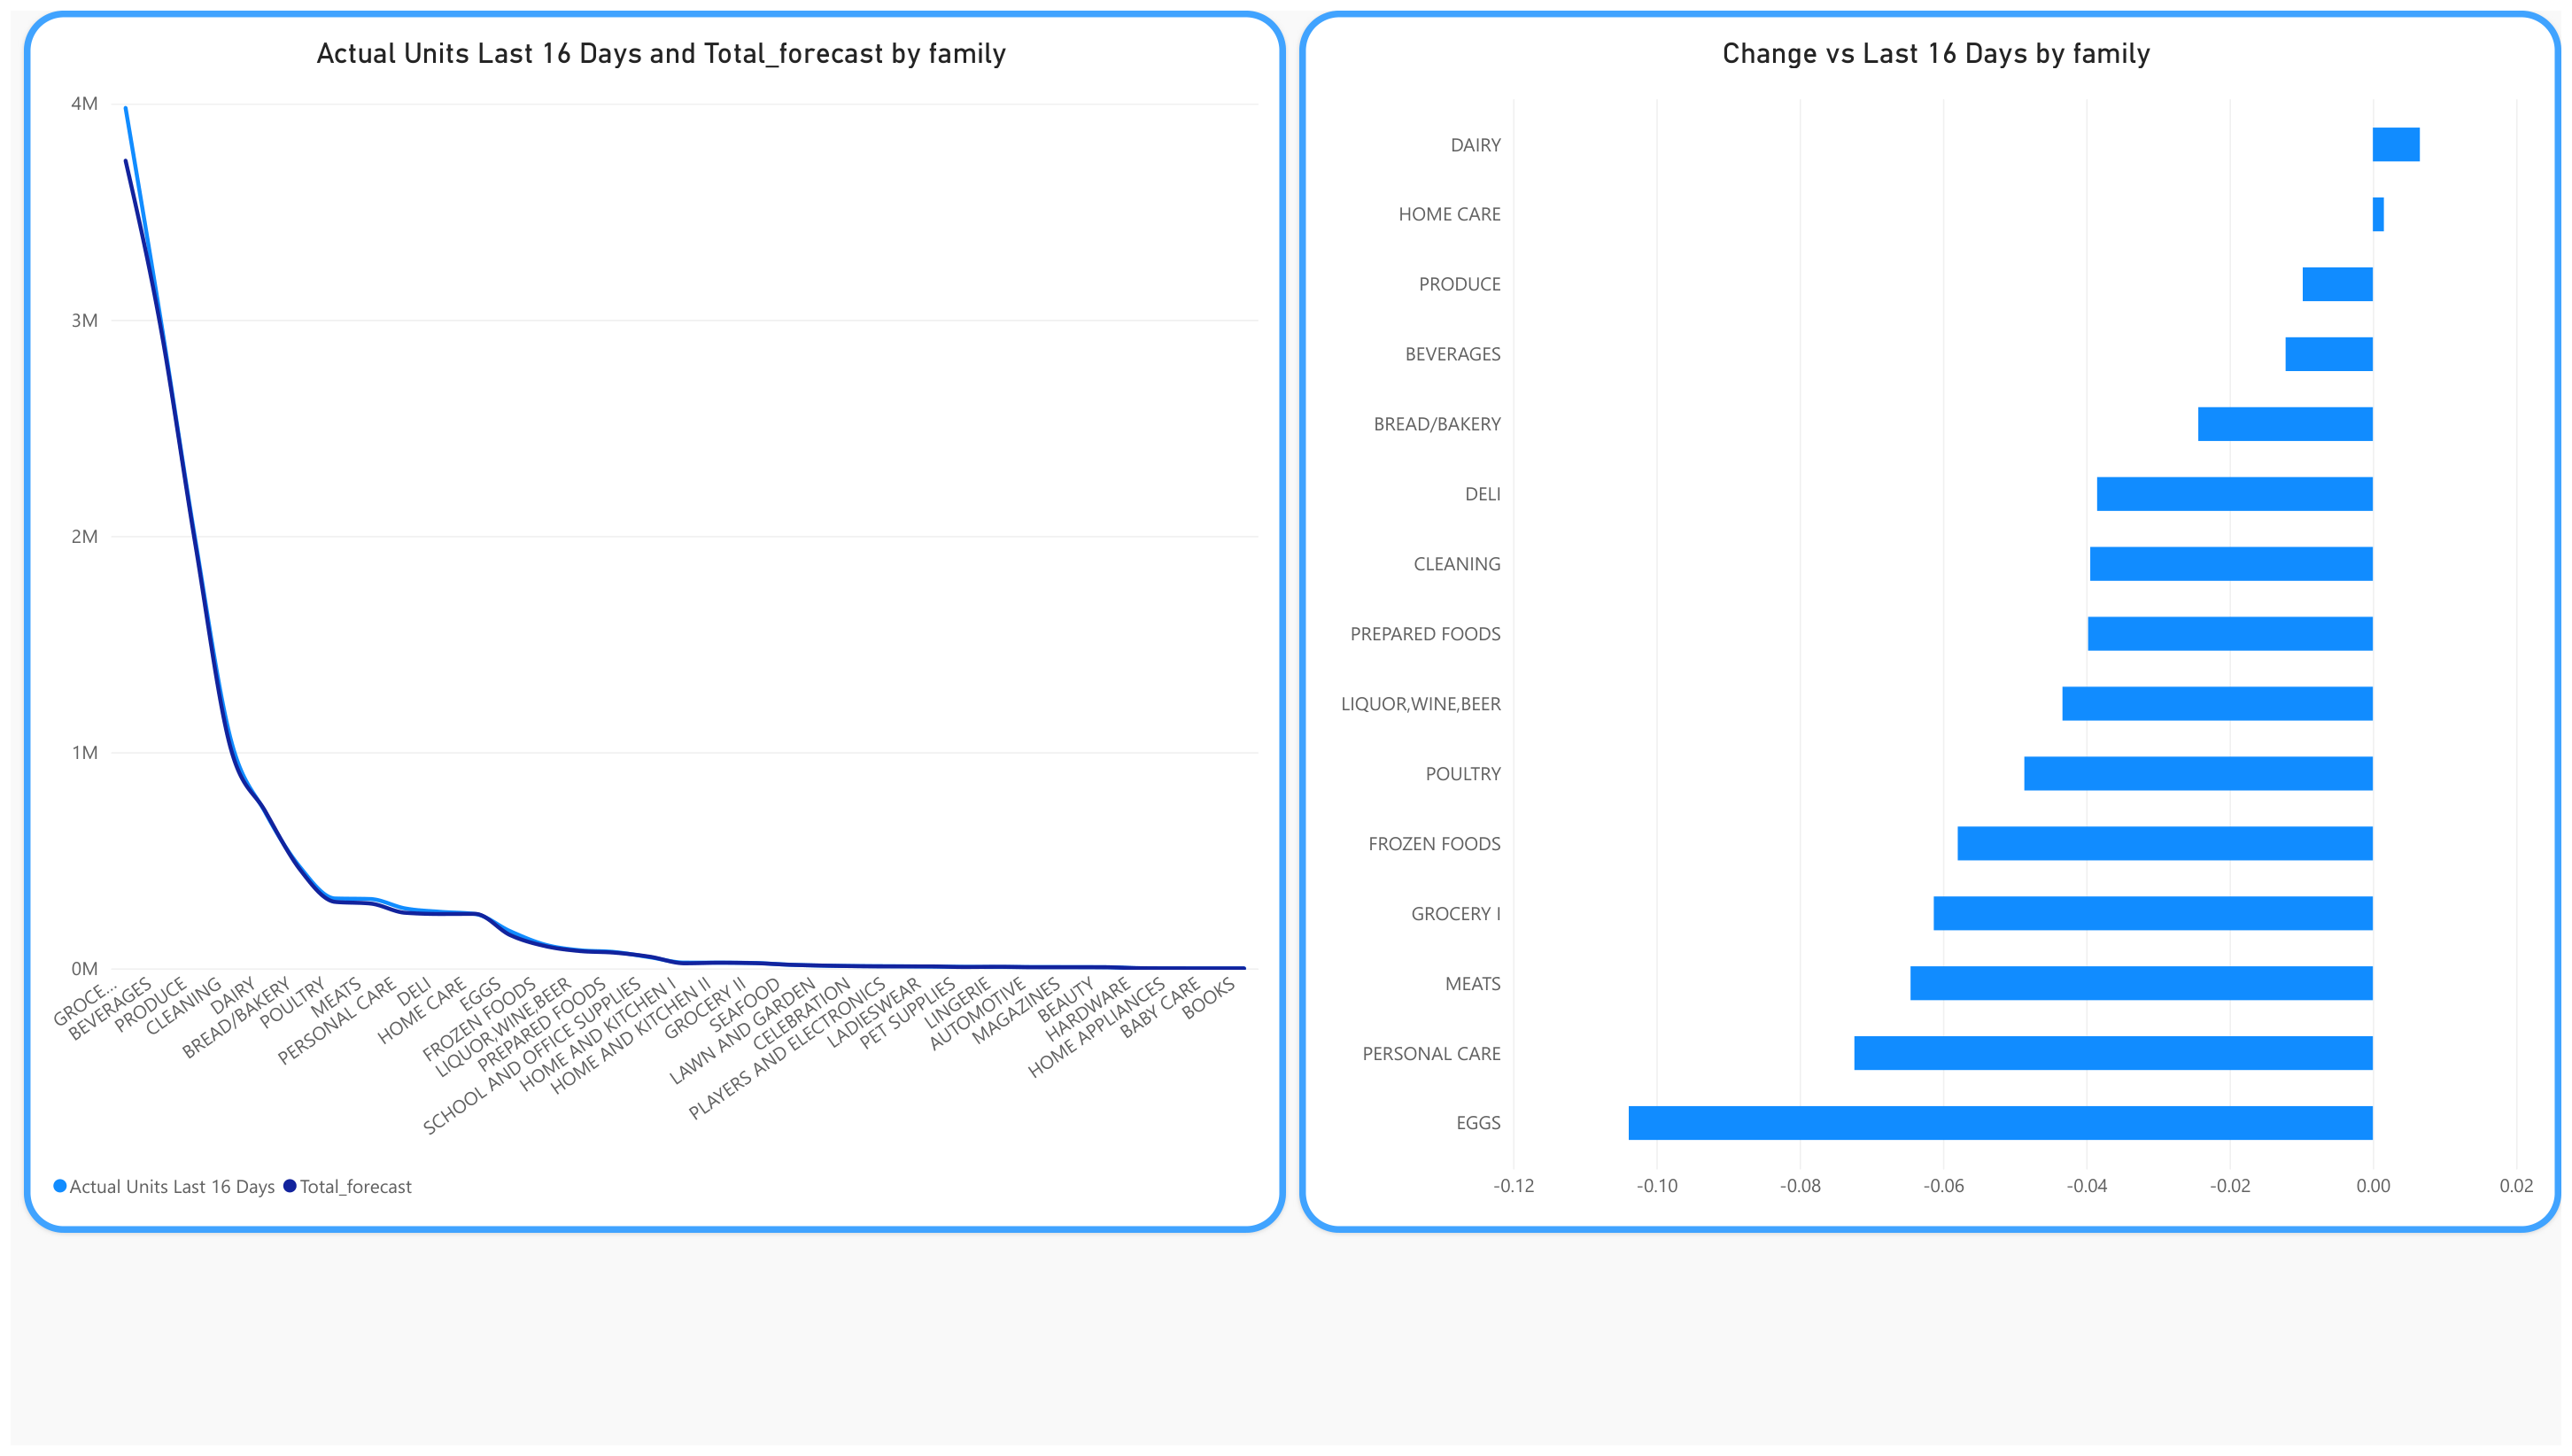

Layout of this report page (visuals, bound fields, positions):
{"tool":"powerbi","page":{"name":"Page 3","canvas":[1920,1080],"ordinal":2},"visuals":[{"type":"lineChart","fields":{"Category":["powerbi_sales_forecast.family"],"Y":["Measures_Table.Actual Units Last 16 Days","Measures_Table.Total_forecast"]},"box":[10,0,950,920],"z":0},{"type":"clusteredBarChart","fields":{"Category":["powerbi_sales_forecast.family"],"Y":["Measures_Table.Change vs Last 16 Days"]},"box":[970,0,950,920],"z":1}]}

Visuals, with their boxes in screenshot pixels (x1, y1, x2, y2), scaled from the page's 1920x1080 canvas onto the 2572x1456 screenshot:
lineChart - powerbi_sales_forecast.family x Measures_Table.Actual Units Last 16 Days: 13/0/1286/1240
clusteredBarChart - powerbi_sales_forecast.family x Measures_Table.Change vs Last 16 Days: 1299/0/2571/1240
